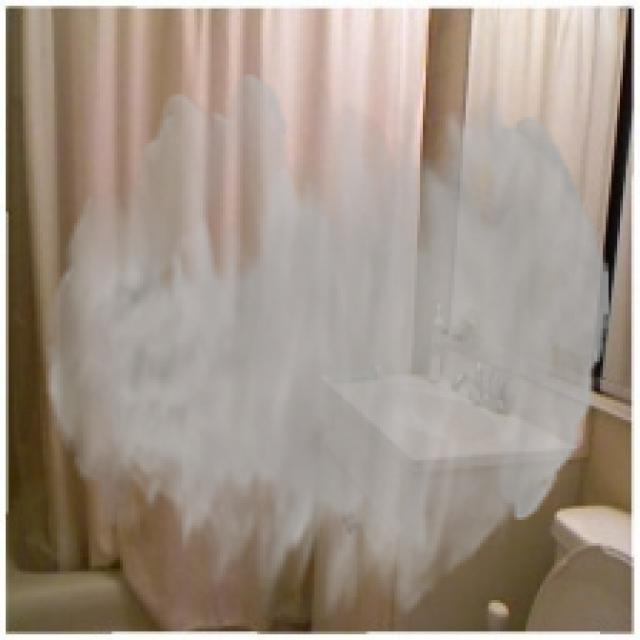Smoke: (46, 74, 608, 620)
